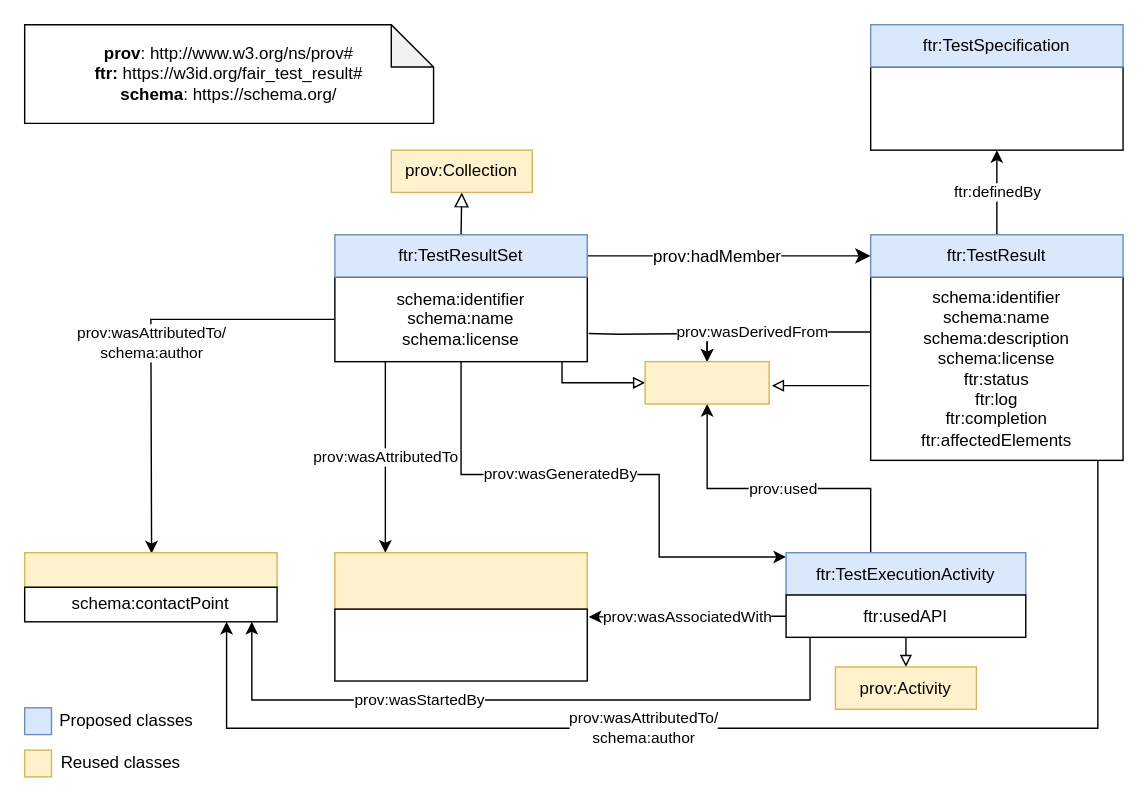
Image size: 1148x809. Some labels were removed from this diagram. The centre of each missing label's shape, as x and y in pixels:
"prov:Agent" goes at point (150, 569).
"prov:Entity" goes at point (706, 382).
"schema:identifier schema:name schema:description schema:version" goes at point (996, 108).
"schema:SoftwareApplication prov:SoftwareAgent" goes at point (460, 580).
"schema:softwareVersion schema:url" goes at point (460, 644).
